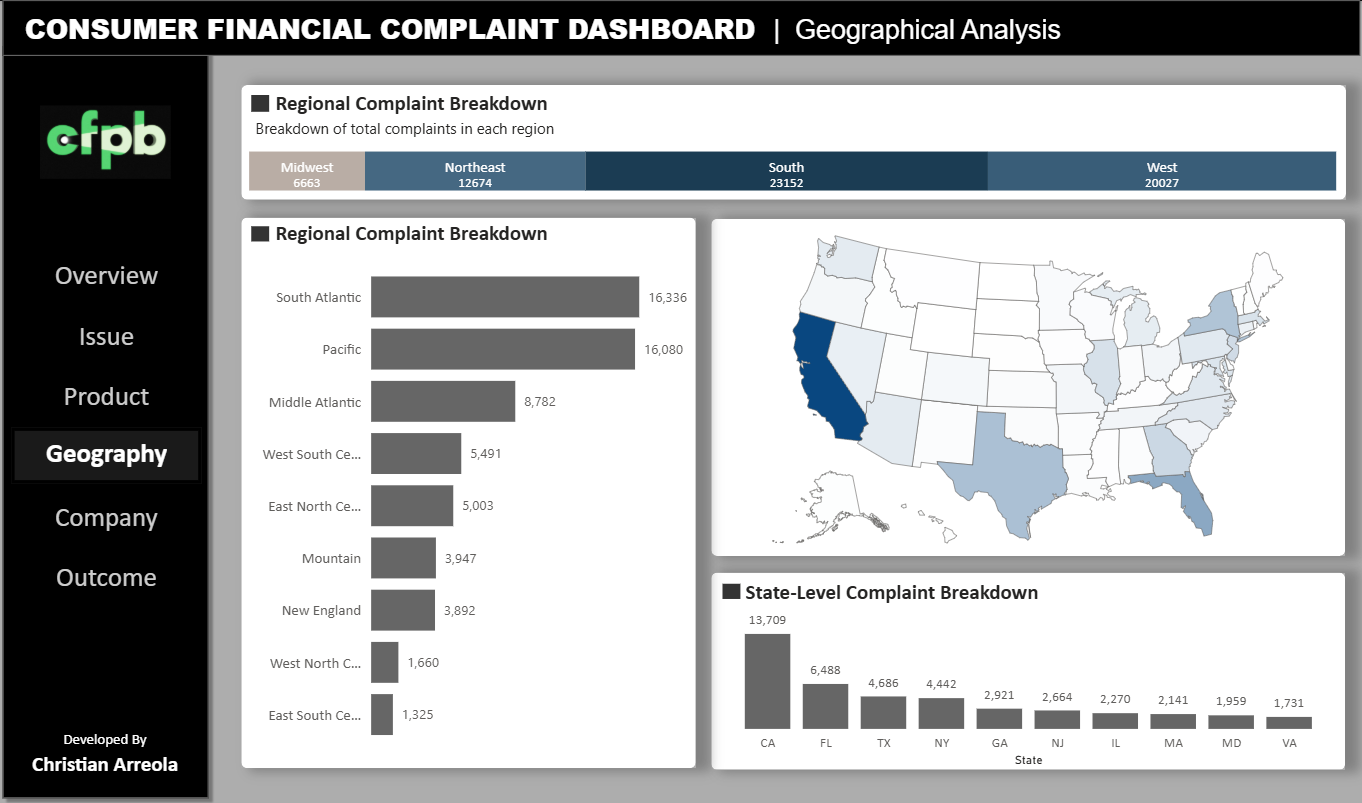

Layout of this report page (visuals, bound fields, positions):
{"tool":"powerbi","page":{"name":"Geography","canvas":[1280,720],"ordinal":3},"visuals":[{"type":"shape","box":[680,511.2,566.2,176.2],"z":1000},{"type":"shape","box":[680,195,566.2,301.2],"z":2000},{"type":"shape","box":[259.7,194.8,406,492],"z":3000},{"type":"shape","box":[259.7,76.5,986.8,102.4],"z":4000},{"type":"shape","box":[40.4,34.6,197.7,685.3],"z":5000},{"type":"shape","box":[46.9,0,1213.1,50],"z":6000},{"type":"textbox","box":[46.2,3.8,1200,50],"z":7000},{"type":"shapeMap","fields":{"Category":["Complaints.State"],"Value":["Complaints.Complaint Count"]},"box":[687.5,195,550,305],"z":8000},{"type":"barChart","fields":{"Category":["Complaints.Census_Division"],"Y":["Complaints.Complaint Count"]},"box":[262.9,215.7,402.9,465.7],"z":9000},{"type":"hundredPercentStackedBarChart","fields":{"Y":["CountNonNull(Complaints.Census_Region)"],"Series":["Complaints.Census_Region"]},"box":[262.6,76.5,981.1,148.6],"z":10000},{"type":"textbox","box":[285.5,76.4,297.3,38.2],"z":11000},{"type":"shape","box":[268.8,85,16.2,15],"z":12000},{"type":"textbox","box":[267.5,100,698.8,28.8],"z":13000},{"type":"textbox","box":[285.5,191.8,297.3,38.2],"z":14000},{"type":"shape","box":[268.8,202.5,16.2,13.8],"z":15000},{"type":"columnChart","fields":{"Category":["Complaints.State"],"Y":["Complaints.Complaint Count"]},"box":[685,532.5,558.8,157.5],"z":16000},{"type":"textbox","box":[706.2,512.5,297.5,38.8],"z":17000},{"type":"shape","box":[690,521.2,16.2,13.8],"z":18000},{"type":"actionButton","box":[54.3,220.4,170,50],"z":19000},{"type":"actionButton","box":[54.3,274.4,170,50],"z":20000},{"type":"actionButton","box":[54.3,328.4,170,50],"z":21000},{"type":"actionButton","box":[54.3,382.4,170,50],"z":22000},{"type":"actionButton","box":[54.3,436.4,170,50],"z":23000},{"type":"actionButton","box":[54.3,490.4,170,50],"z":24000},{"type":"textbox","box":[91.1,645.6,96.7,30],"z":25000},{"type":"textbox","box":[58.2,666.4,160.9,36.4],"z":26000},{"type":"image","box":[75,89.5,128.4,75],"z":27000}]}

Visuals, with their boxes on the page's 1280x720 design canvas (x1, y1, x2, y2). These are canvas units, not pixel positions in the 1362x803 screenshot, which may show the page scaled, cropped or inside an application window:
shape: 680, 511, 1246, 687
shape: 680, 195, 1246, 496
shape: 260, 195, 666, 687
shape: 260, 76, 1246, 179
shape: 40, 35, 238, 720
shape: 47, 0, 1260, 50
textbox: 46, 4, 1246, 54
shapeMap - Complaints.State x Complaints.Complaint Count: 688, 195, 1238, 500
barChart - Complaints.Census_Division x Complaints.Complaint Count: 263, 216, 666, 681
hundredPercentStackedBarChart - CountNonNull(Complaints.Census_Region) x Complaints.Census_Region: 263, 76, 1244, 225
textbox: 286, 76, 583, 115
shape: 269, 85, 285, 100
textbox: 268, 100, 966, 129
textbox: 286, 192, 583, 230
shape: 269, 202, 285, 216
columnChart - Complaints.State x Complaints.Complaint Count: 685, 532, 1244, 690
textbox: 706, 512, 1004, 551
shape: 690, 521, 706, 535
actionButton: 54, 220, 224, 270
actionButton: 54, 274, 224, 324
actionButton: 54, 328, 224, 378
actionButton: 54, 382, 224, 432
actionButton: 54, 436, 224, 486
actionButton: 54, 490, 224, 540
textbox: 91, 646, 188, 676
textbox: 58, 666, 219, 703
image: 75, 90, 203, 164
